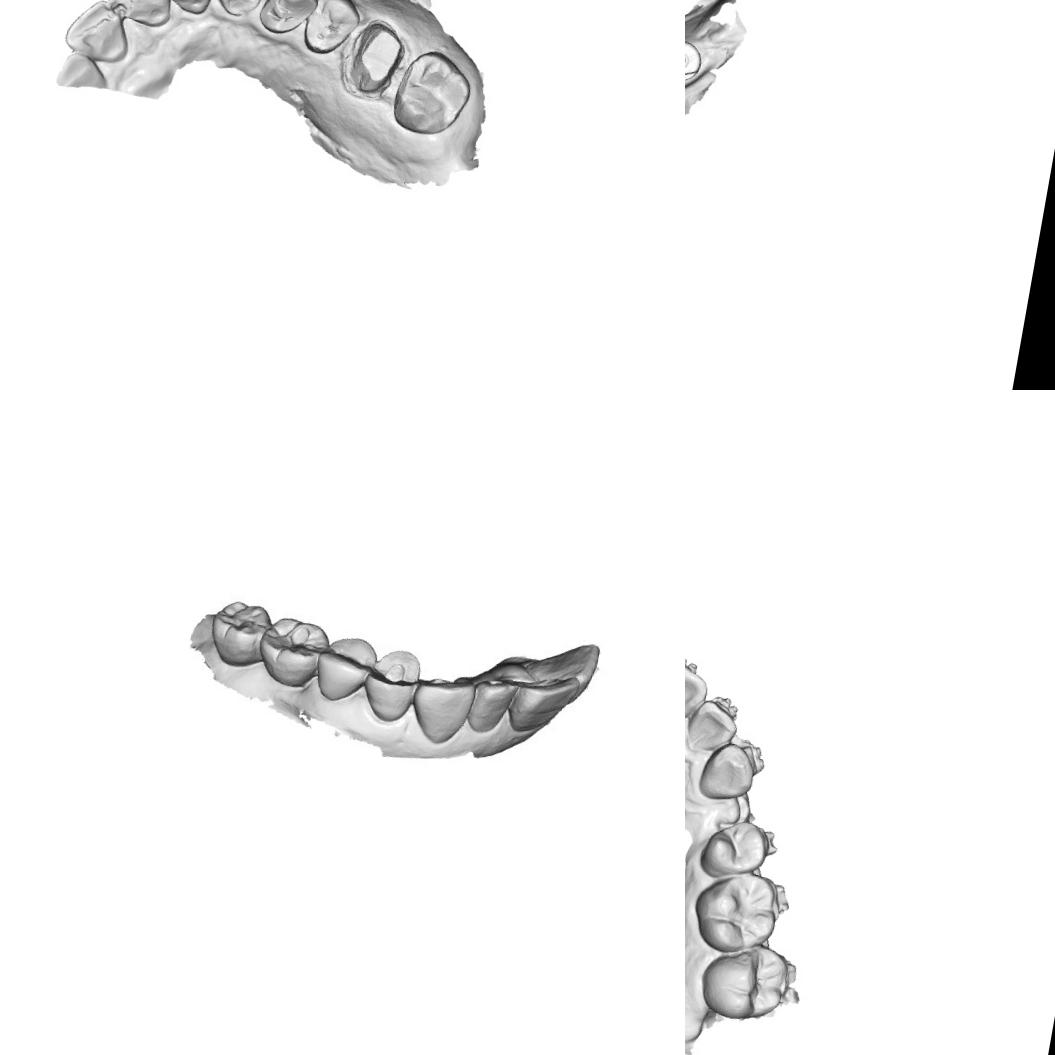canine: (408, 668, 478, 752), (694, 738, 758, 806), (205, 0, 273, 22)
crown: (338, 11, 414, 104)
implant: (685, 35, 705, 85)
incisor: (57, 0, 136, 67), (462, 669, 524, 741), (685, 690, 741, 759), (515, 673, 575, 735), (100, 0, 179, 29), (685, 654, 713, 732), (157, 0, 220, 17)
molar: (686, 861, 789, 961), (386, 42, 480, 143), (693, 935, 794, 1029), (255, 610, 331, 694), (202, 595, 274, 673)
premolar: (693, 812, 773, 888), (312, 628, 380, 706), (359, 648, 420, 724), (300, 0, 362, 59), (254, 0, 323, 42)
